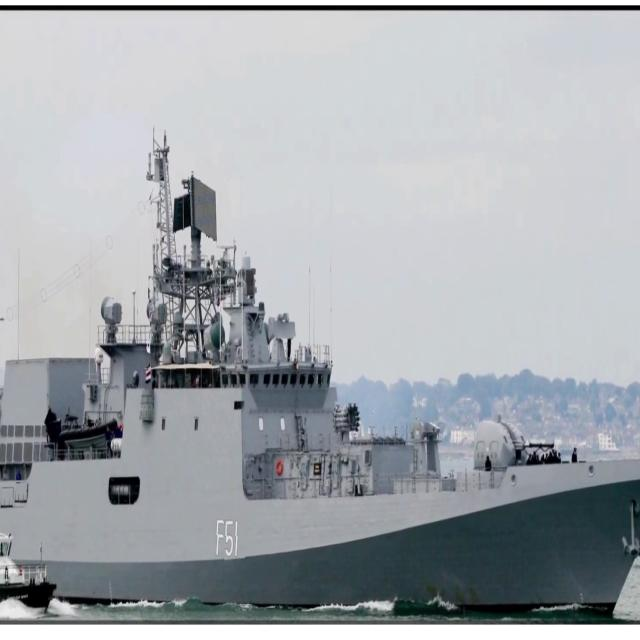OCR: (211, 512, 245, 565)
